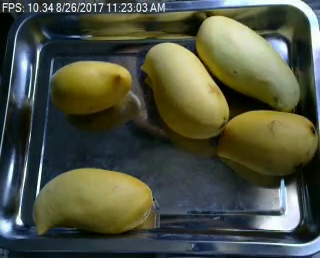Mango: (196, 15, 300, 112), (145, 40, 230, 137), (33, 169, 152, 237), (221, 112, 318, 175), (51, 61, 132, 114)
